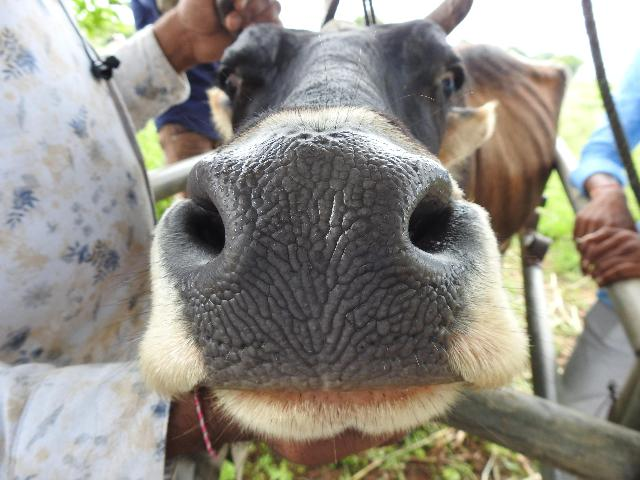Muzzle: (226, 152, 404, 378)
